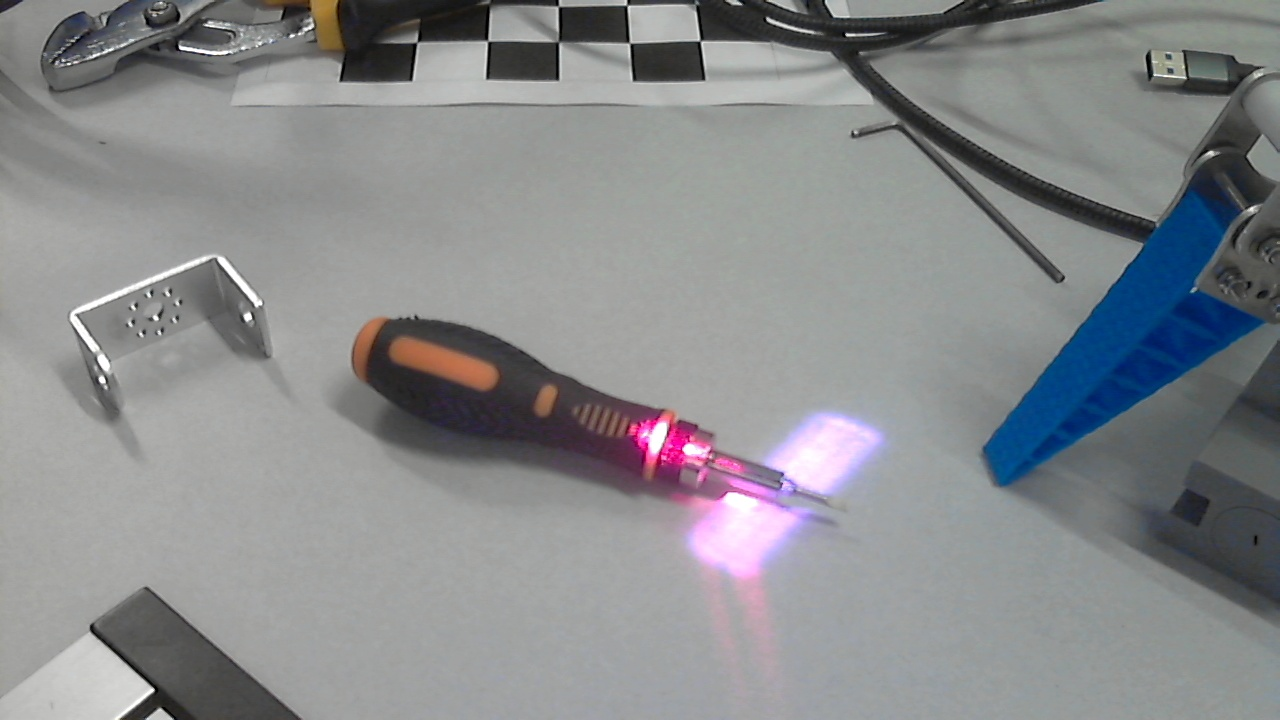Object precision screwdriver - Material Metal - Pdfname NoEr35VbQ7sR: (617, 378, 724, 488)
